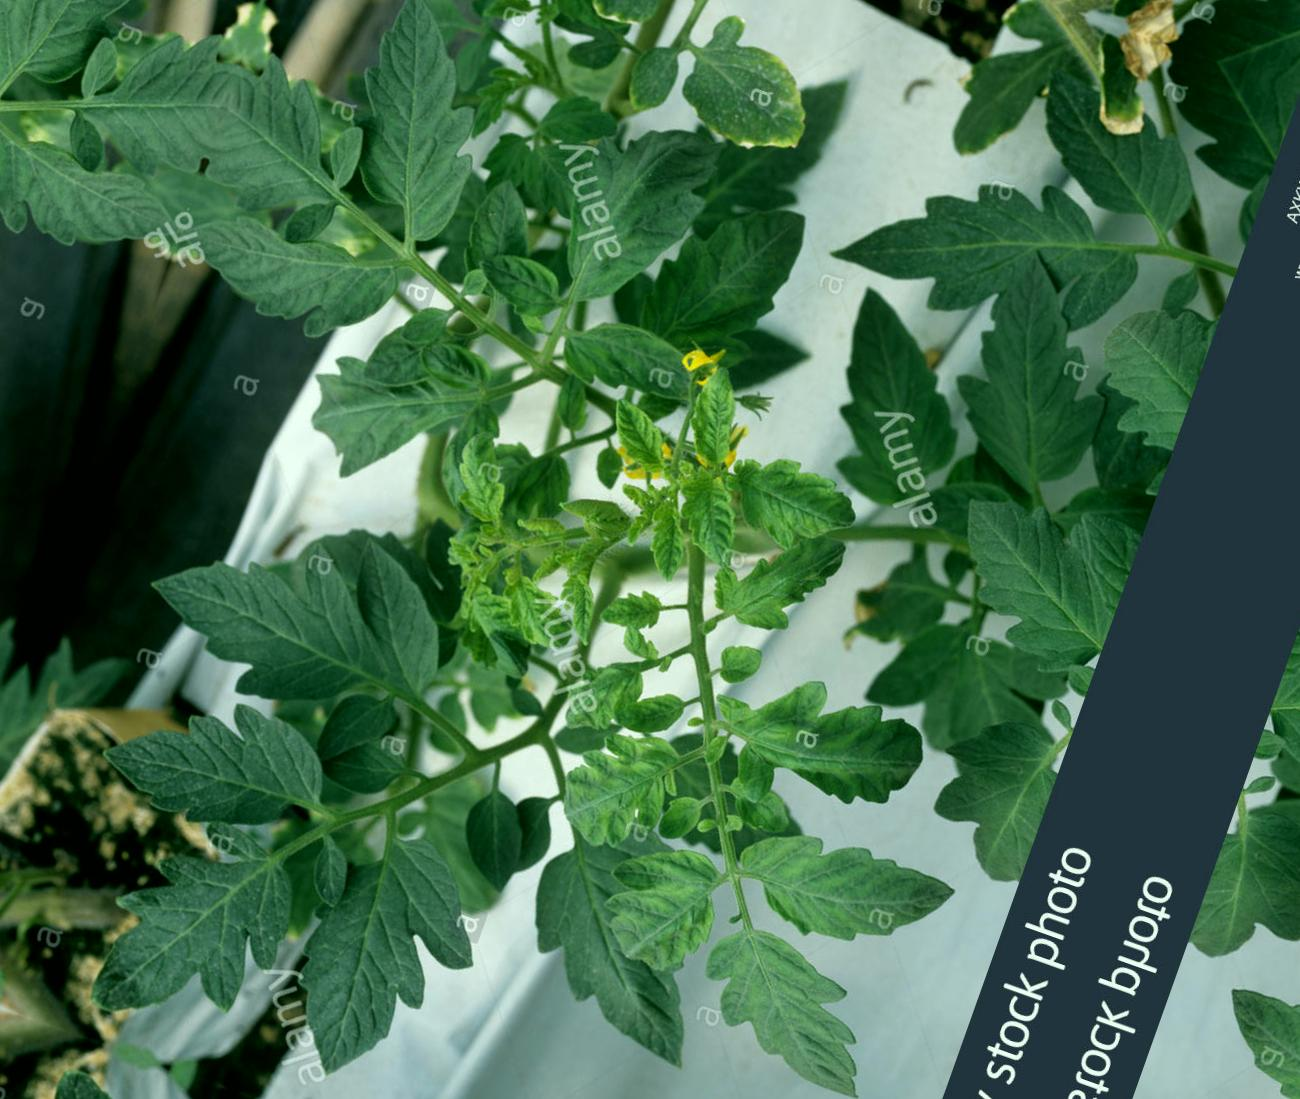Tomato leaf yellow virus: (712, 434, 871, 565), (664, 352, 760, 492), (665, 450, 771, 576)
